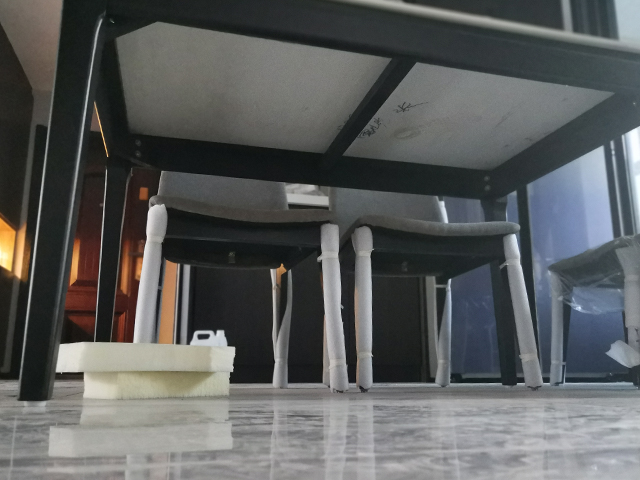stool: (132, 176, 350, 395), (337, 190, 539, 394), (546, 234, 640, 388)
table: (15, 1, 640, 402)
